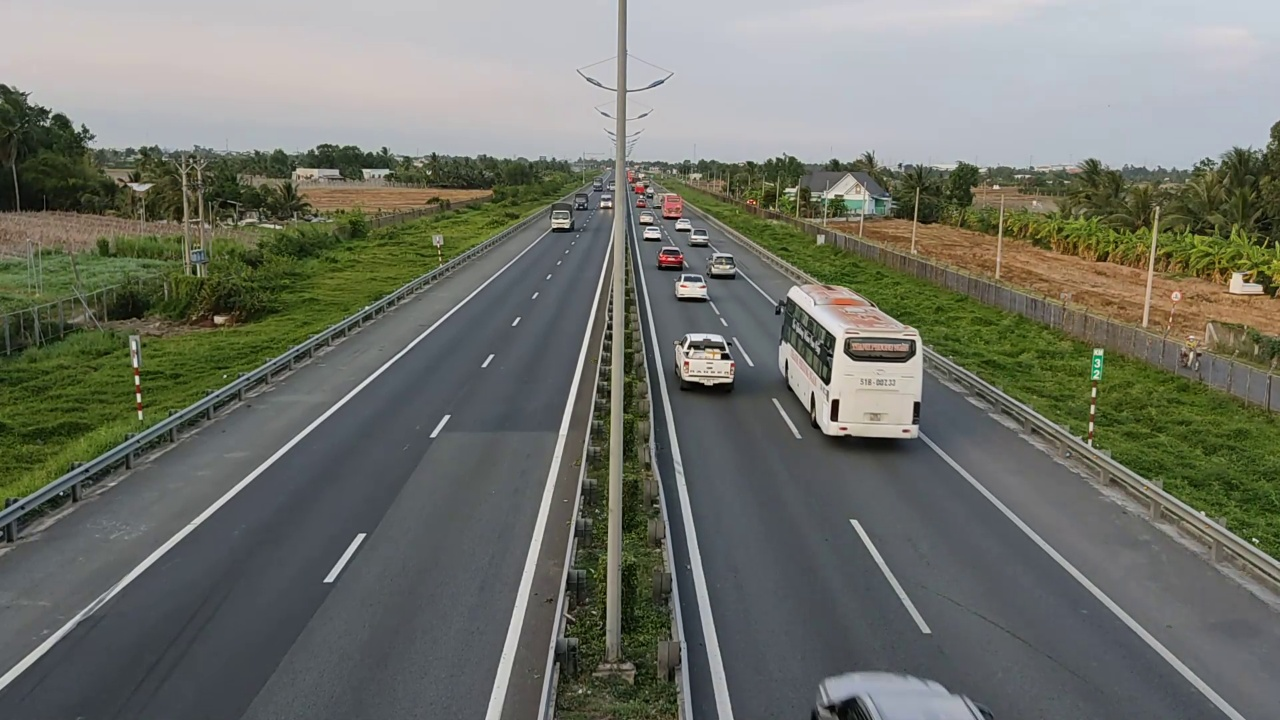bus: (775, 280, 924, 441)
car: (812, 669, 989, 718), (672, 331, 736, 389), (673, 273, 706, 300), (706, 251, 736, 277), (656, 245, 683, 267)
